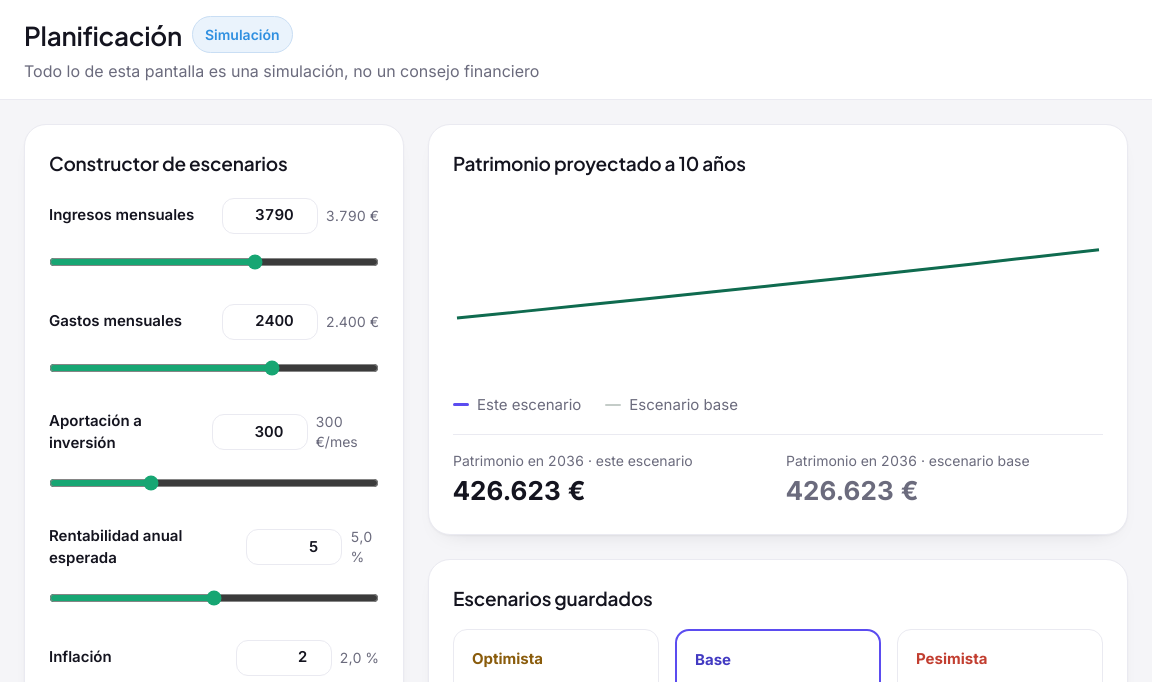
Test: PlanningPage › el campo numérico de un slider acepta un valor por encima de su tope visual
Replace the text in the number field named "Aportación a inversión (valor exacto)" with "2500" at (260, 432), box [212, 414, 308, 450]
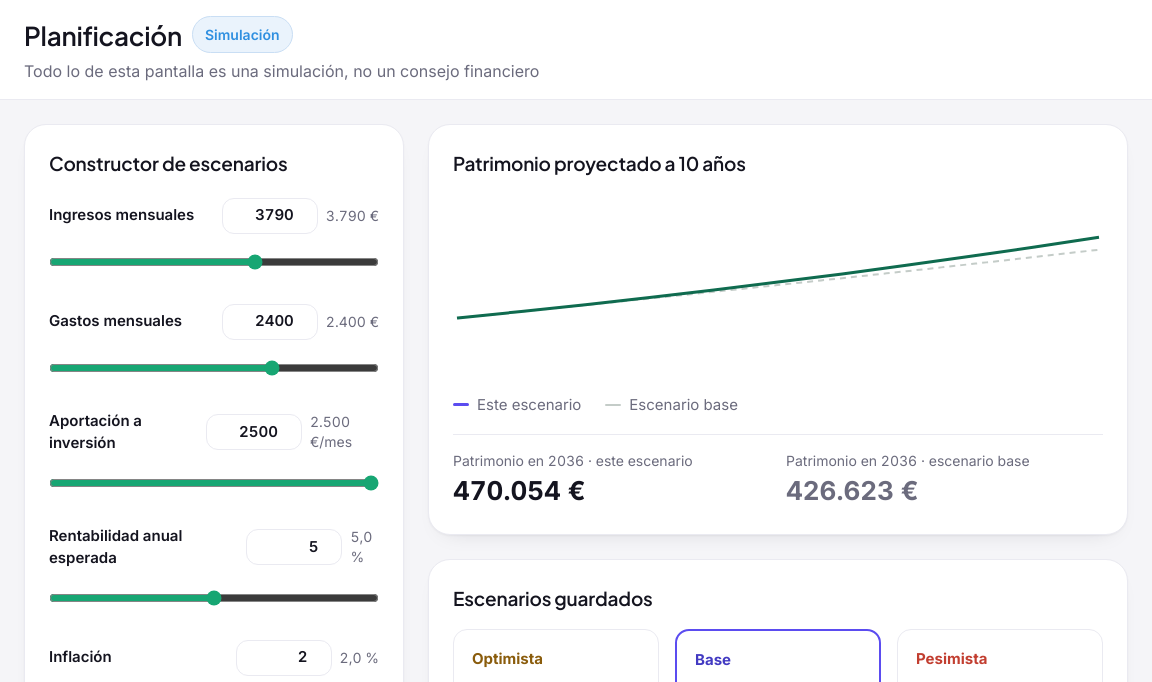
Check: the text "2.500 €/mes" is shown, box [310, 413, 352, 450]
Check: the slider named "Aportación a inversión" holds "1000", box [49, 460, 379, 504]
